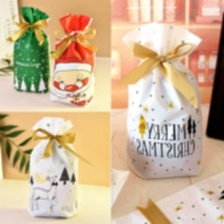snack: (112, 16, 210, 185), (24, 112, 100, 221), (45, 9, 104, 109), (2, 2, 56, 95)
